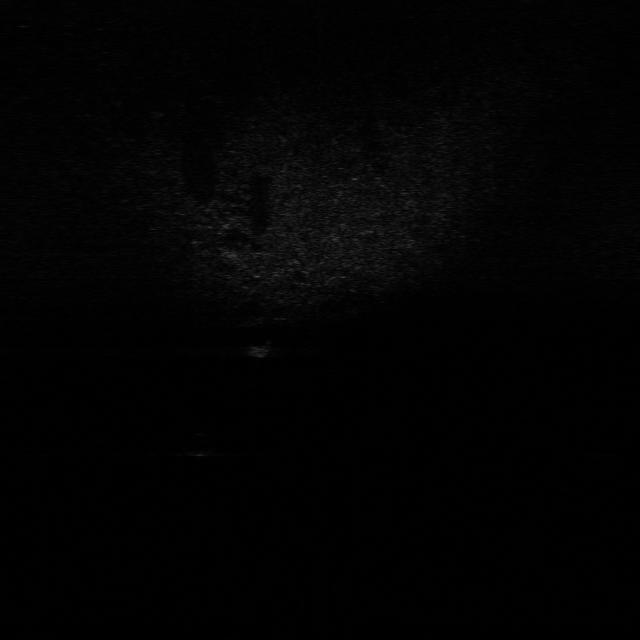ball: (177, 428, 219, 459)
cube: (246, 337, 280, 357)
